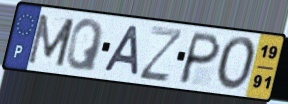A: (101, 24, 141, 79)
M: (25, 12, 77, 69)
O: (215, 35, 259, 94)
P: (176, 30, 223, 87)
Q: (64, 17, 106, 73)
Z: (137, 24, 186, 84)
